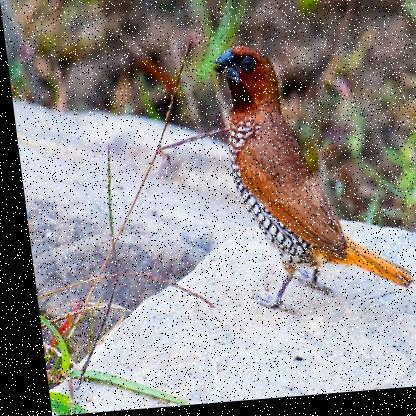Burung: (208, 41, 406, 322)
